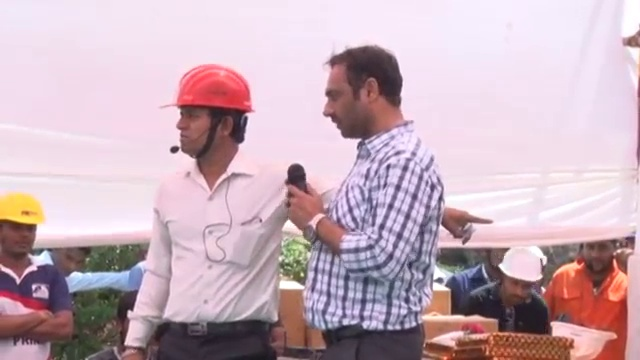helmet: (152, 63, 260, 114), (547, 320, 617, 357), (499, 248, 553, 288), (0, 193, 44, 229)
helmet_off: (318, 48, 410, 132), (579, 236, 619, 275), (46, 245, 89, 280)
helmet_on: (155, 69, 262, 179), (492, 246, 553, 307), (0, 192, 43, 263)
person: (288, 28, 466, 360), (109, 65, 295, 360), (0, 191, 76, 359), (552, 235, 635, 346), (464, 245, 552, 332), (42, 246, 149, 296), (445, 245, 503, 312)
